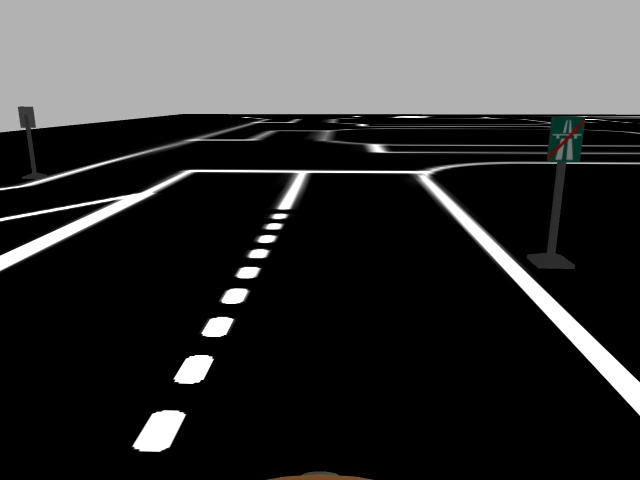leave_highway: (544, 115, 587, 163)
